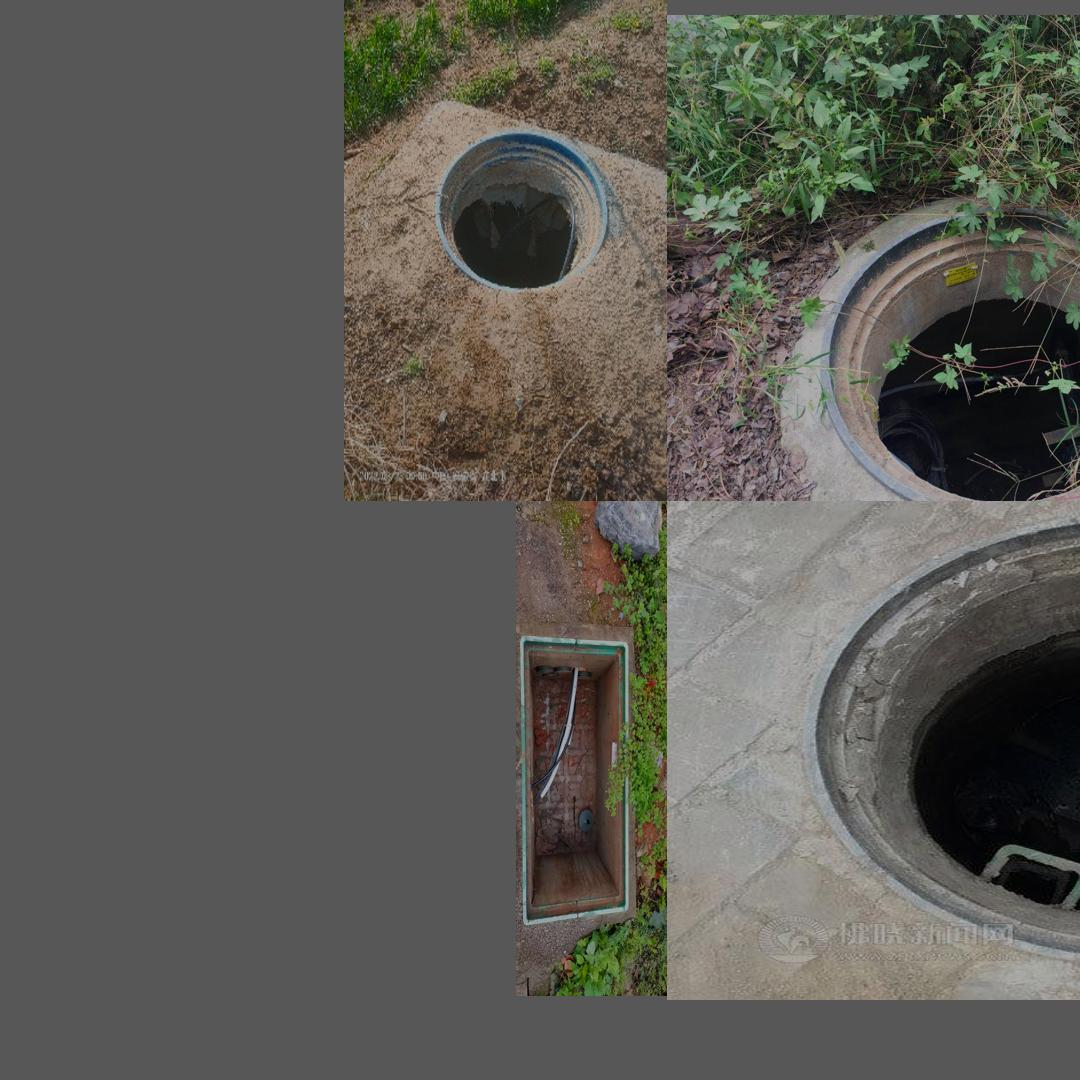lose: (803, 509, 1080, 959), (802, 194, 1080, 496), (519, 634, 628, 926), (432, 128, 620, 295)
